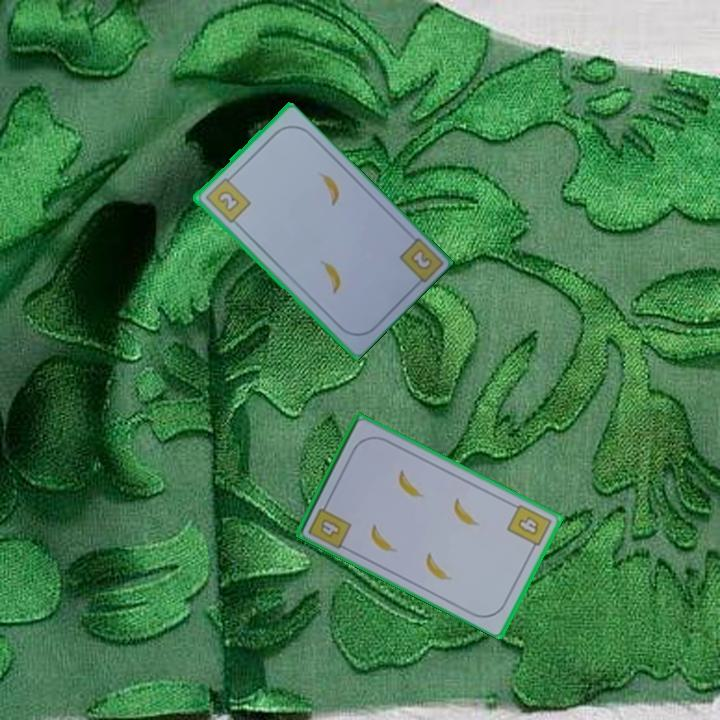2b: (201, 171, 253, 226), (409, 247, 433, 271)
4b: (504, 501, 554, 555), (305, 497, 354, 552)
